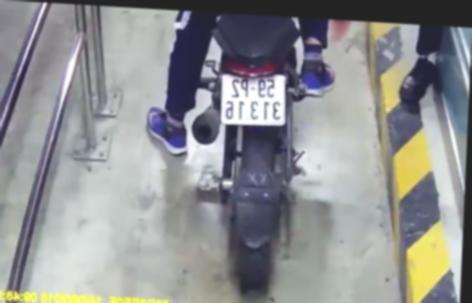License_Plate: (213, 65, 295, 139)
